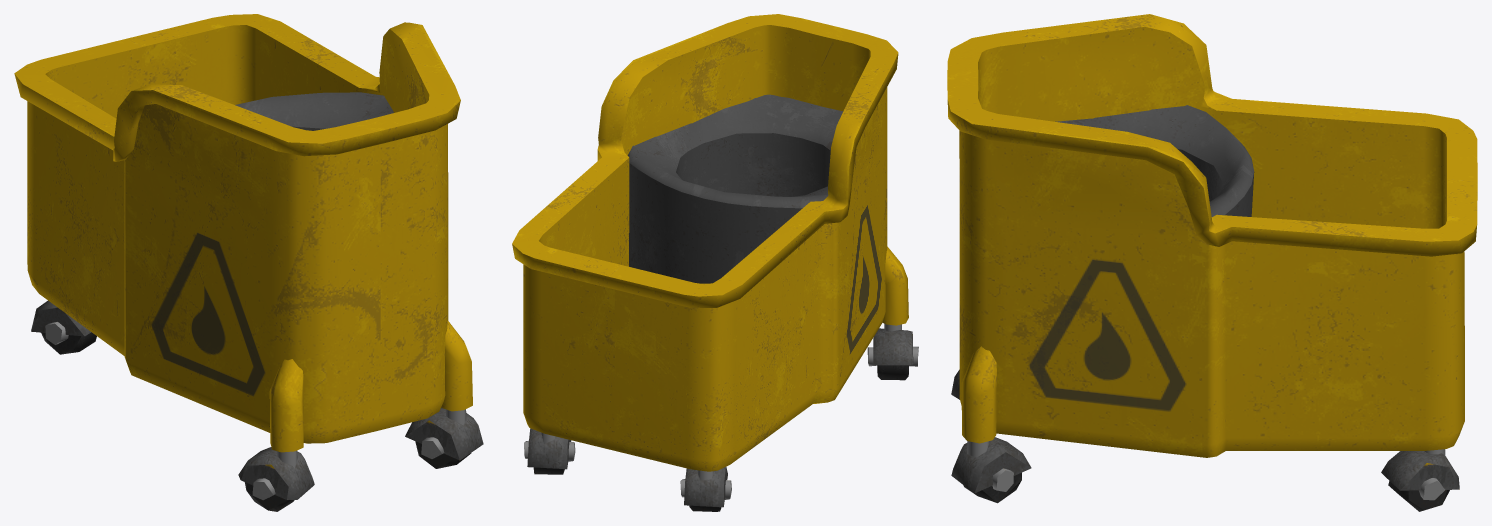
File: SM_Mop_Bucket.fbx
3 renders of one model, left to right at view 1: azimuth 30°, elevation 25°; view 2: azimuth 150°, elevation 25°; view 3: azimuth 270°, elevation 25°, orthographic. The views are drawn at different scales.
Visible parts, largest first — view 1: SM_Mop_Bucket_LOD0; view 2: SM_Mop_Bucket_LOD0; view 3: SM_Mop_Bucket_LOD0.
Part boxes in pixels (x1,y1,x2,y2): SM_Mop_Bucket_LOD0: [14, 14, 483, 511]; SM_Mop_Bucket_LOD0: [512, 14, 918, 511]; SM_Mop_Bucket_LOD0: [947, 14, 1477, 511].
Bounding box in the file's own units: 45.01 × 70.28 × 55.09.
Materials: 1 (1 with a texture image).
